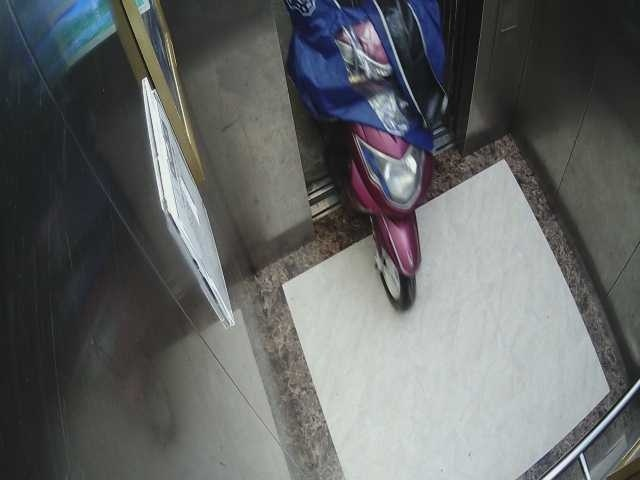emotor: (318, 19, 440, 319)
